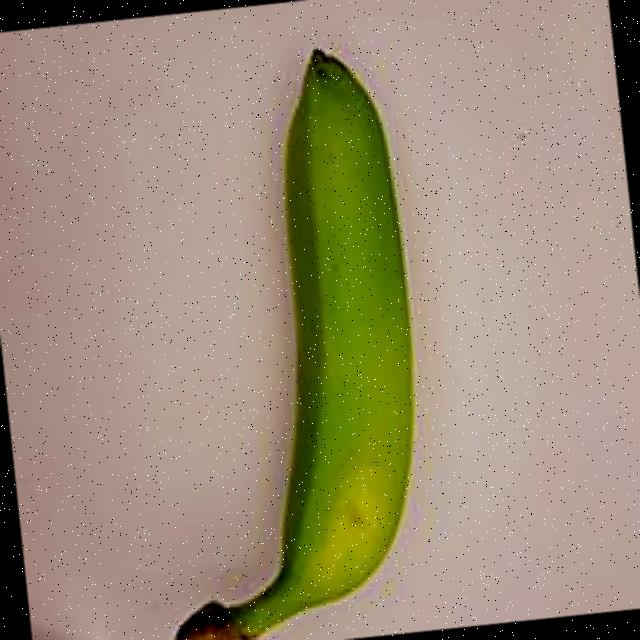Unripe: (105, 18, 473, 640)
